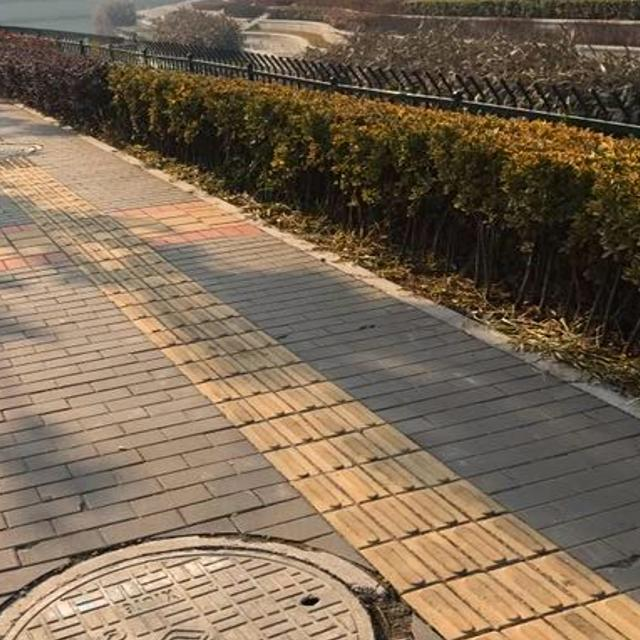circle: (0, 533, 419, 640)
